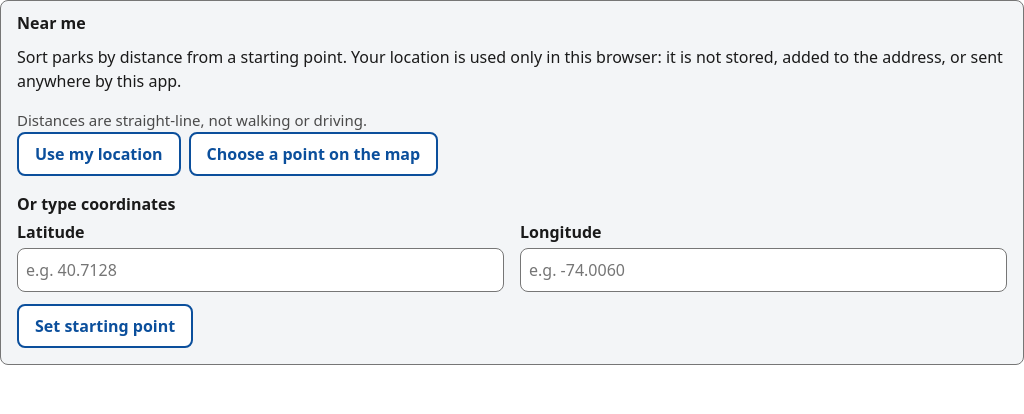
NearMePanel: typed coordinates › rejects latitude too big with a message and does not set a point
The width and height of the screenshot is (1024, 414).
Type "91" into the field labelled "Latitude" at (260, 270), box 17,248 -> 504,292
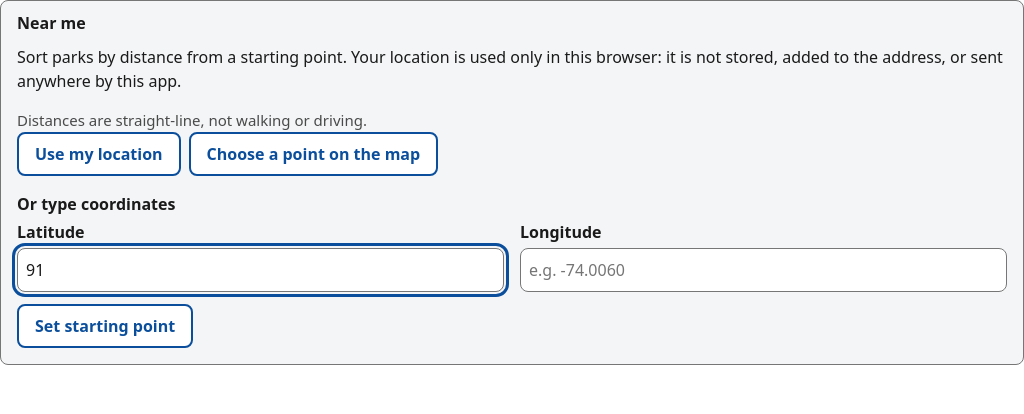
Type "-74" into the field labelled "Longitude" at (764, 270), box 520,248 -> 1007,292
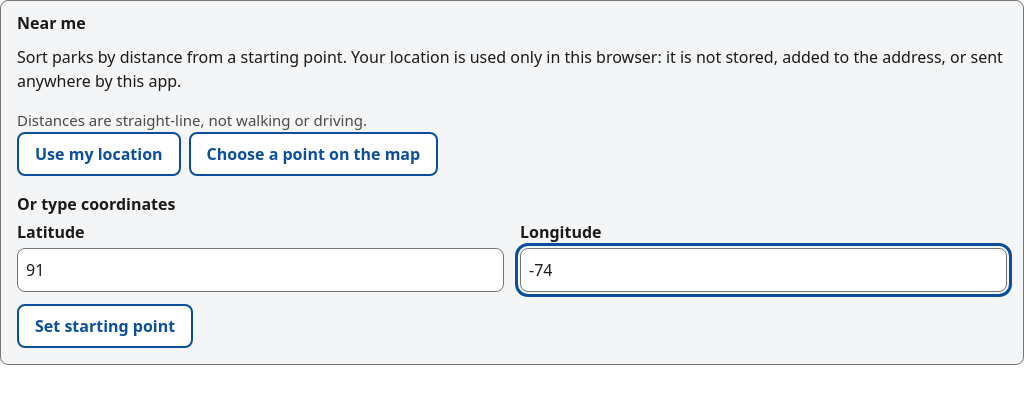
Click the button "Set starting point" at (105, 326), box 17,304 -> 193,348
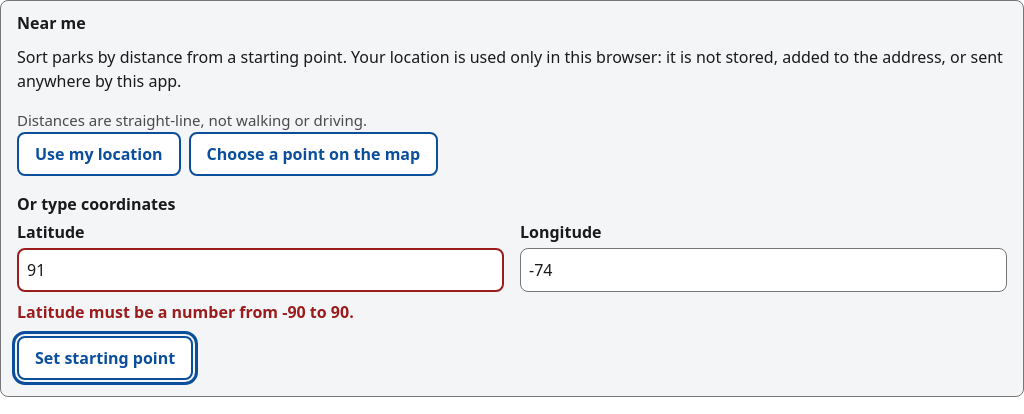
Expected: the message shows "Latitude must be a number from -90 to 90", 17,300 -> 354,322
